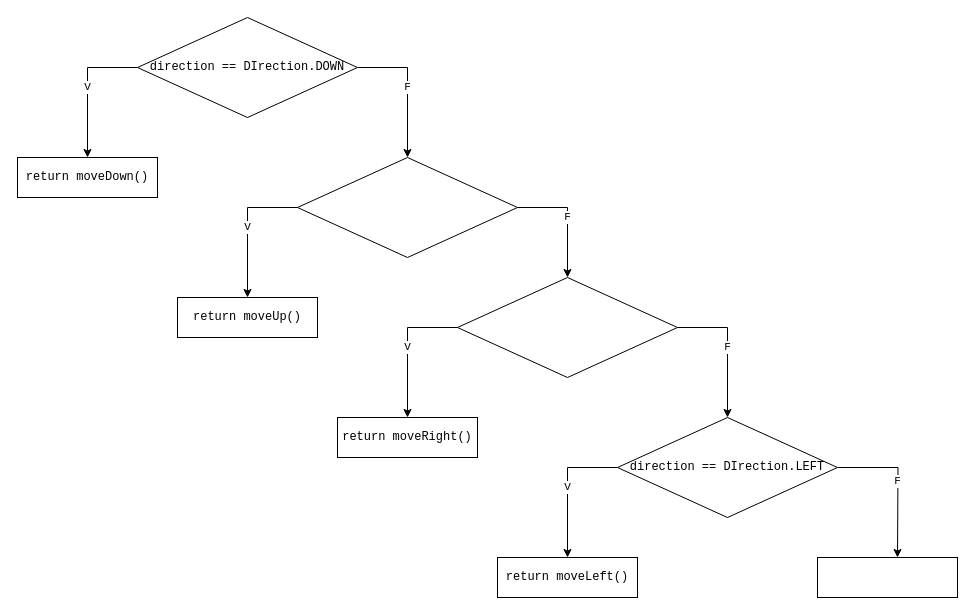
Image size: 975x615. Some labels were removed from this diagram. The shapes that lost their labels are listed below. From the top down, each one's centre as x and y in pixels, then its label:
At (x=407, y=207): "direction == DIrection.UP".
At (x=567, y=327): "direction == DIrection.RIGHT".
At (x=887, y=577): "return false".
